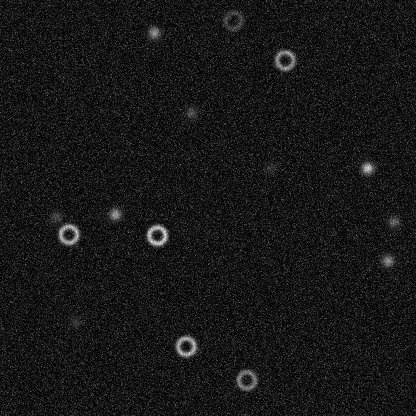Ring: (173, 334, 197, 358), (234, 367, 258, 391), (221, 8, 245, 32), (144, 223, 168, 247), (56, 222, 80, 246), (272, 48, 296, 72)
Spot: (359, 160, 375, 176), (263, 159, 279, 175), (48, 209, 64, 225), (145, 24, 161, 40), (183, 104, 199, 120), (67, 314, 83, 330), (385, 213, 401, 229), (379, 252, 395, 268), (106, 206, 122, 222)
